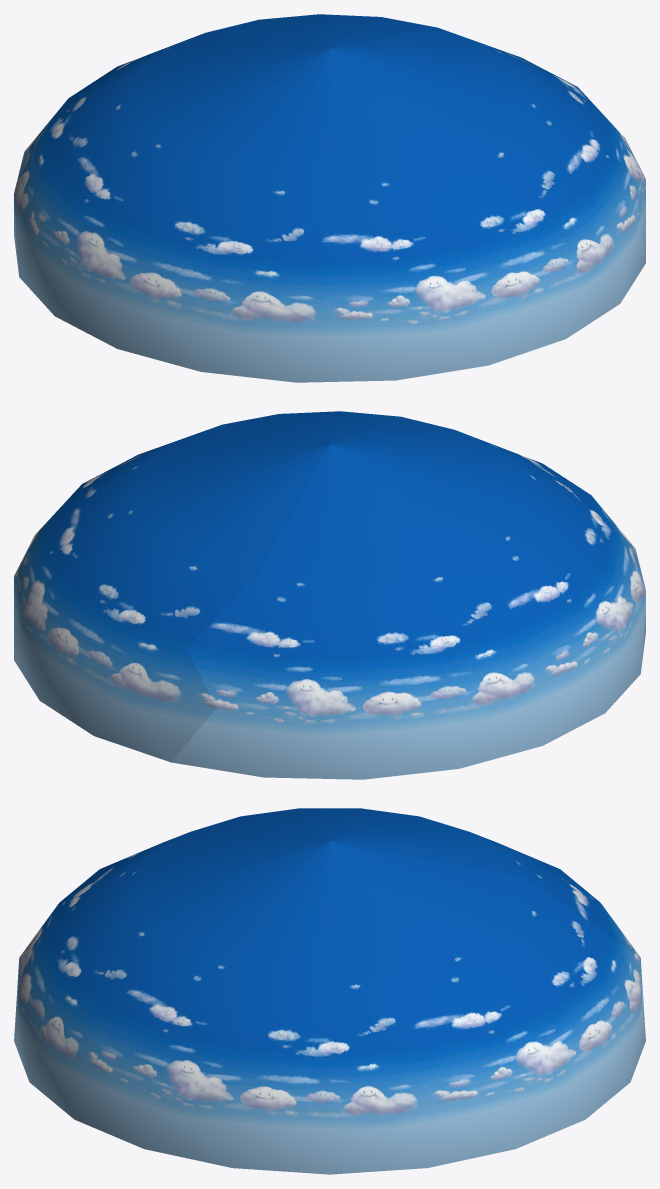
The model's file is luigi_sky.dae.
The picture shows the model from 3 angles, top to bottom: view 1: azimuth 30°, elevation 25°; view 2: azimuth 150°, elevation 25°; view 3: azimuth 270°, elevation 25°; orthographic projection.
Visible parts, largest first — view 1: n0b0; view 2: n0b0; view 3: n0b0.
Part boxes in pixels (x1,y1,x2,y2): n0b0: [14, 14, 645, 382]; n0b0: [14, 411, 645, 779]; n0b0: [14, 808, 645, 1174].
Size of the model in its own units: 167652 by 58444 by 167652.
